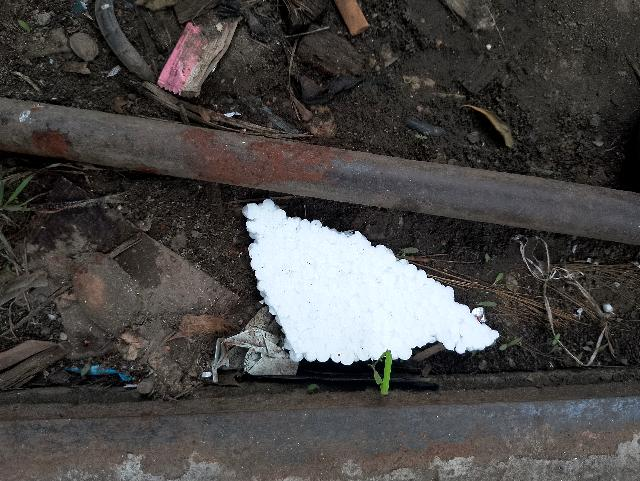cocksheet: (248, 193, 496, 369)
